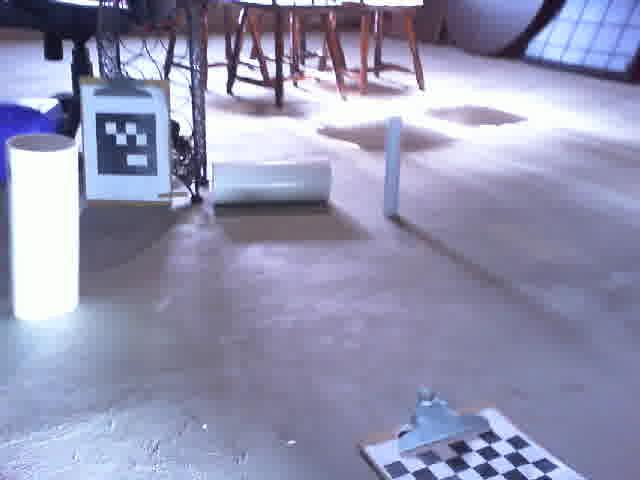coral: (7, 133, 80, 321), (209, 157, 333, 209)
